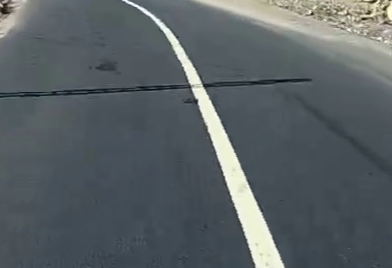left: (98, 39, 309, 244)
